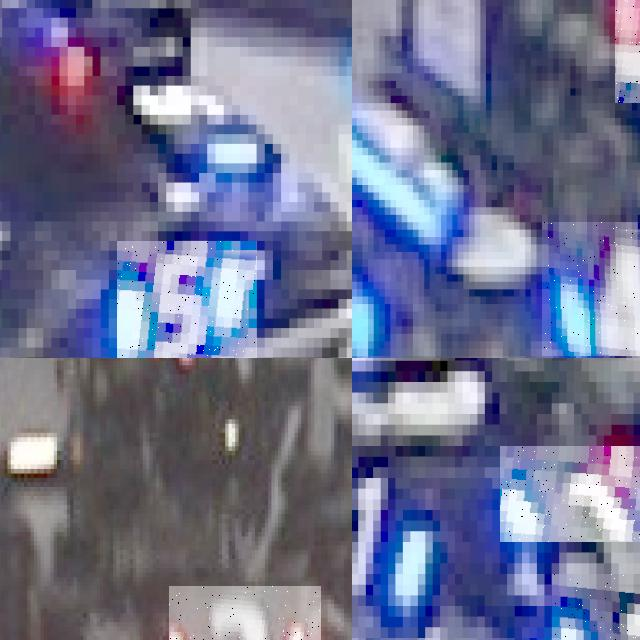B1: (499, 446, 640, 542), (352, 456, 432, 606), (551, 574, 640, 640)
B4: (542, 222, 640, 356), (352, 229, 373, 358)
B5: (117, 241, 256, 358)
R3: (169, 586, 321, 640)
